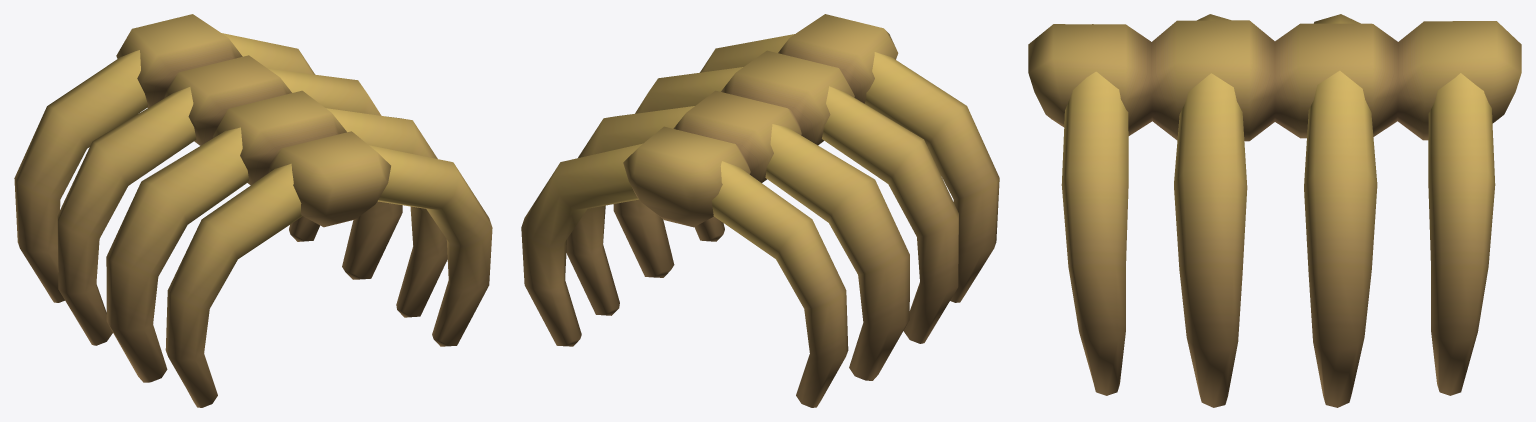
File: m_Bones01.fbx
3 views of the same model, side by side, from view 1: azimuth 30°, elevation 25°; view 2: azimuth 150°, elevation 25°; view 3: azimuth 270°, elevation 25° (orthographic). The views are drawn at different scales.
Visible parts, largest first — view 1: m_Bones01; view 2: m_Bones01; view 3: m_Bones01.
Boxes of the visible parts, bbox=[...] form: m_Bones01: bbox=[14, 14, 492, 407]; m_Bones01: bbox=[521, 14, 999, 407]; m_Bones01: bbox=[1028, 14, 1521, 407].
Bounding box in the file's own units: 95.29 × 64.73 × 100.
